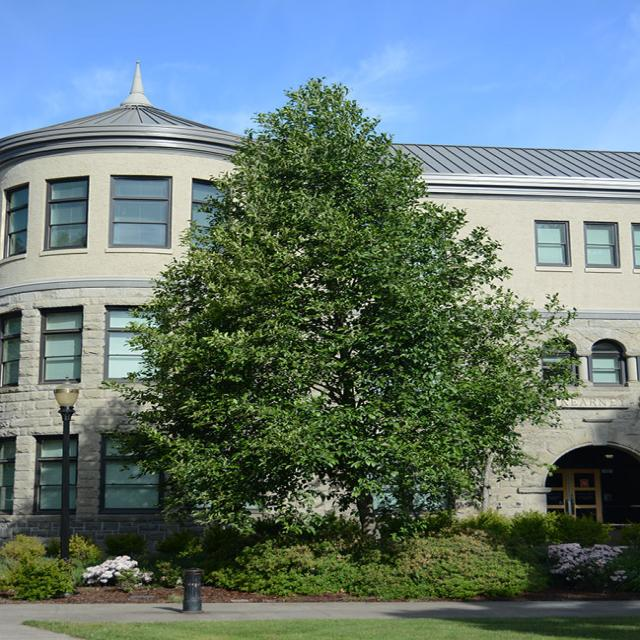Alnus rubra: (102, 80, 569, 558)
